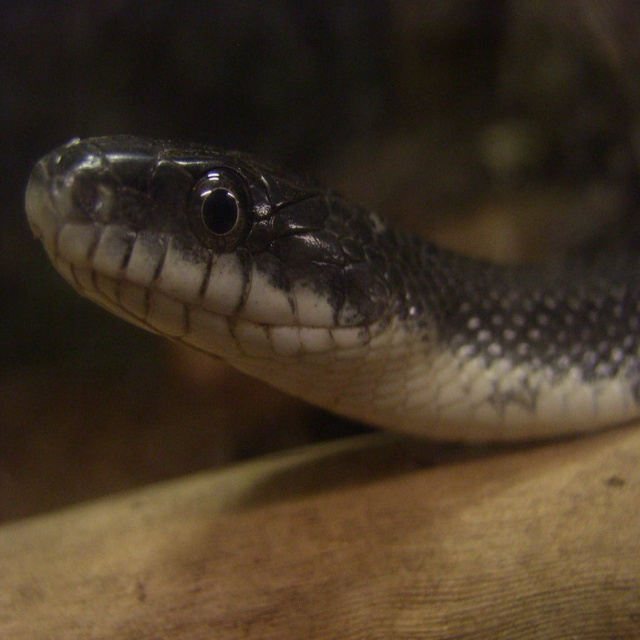Snake: (25, 135, 640, 444)
